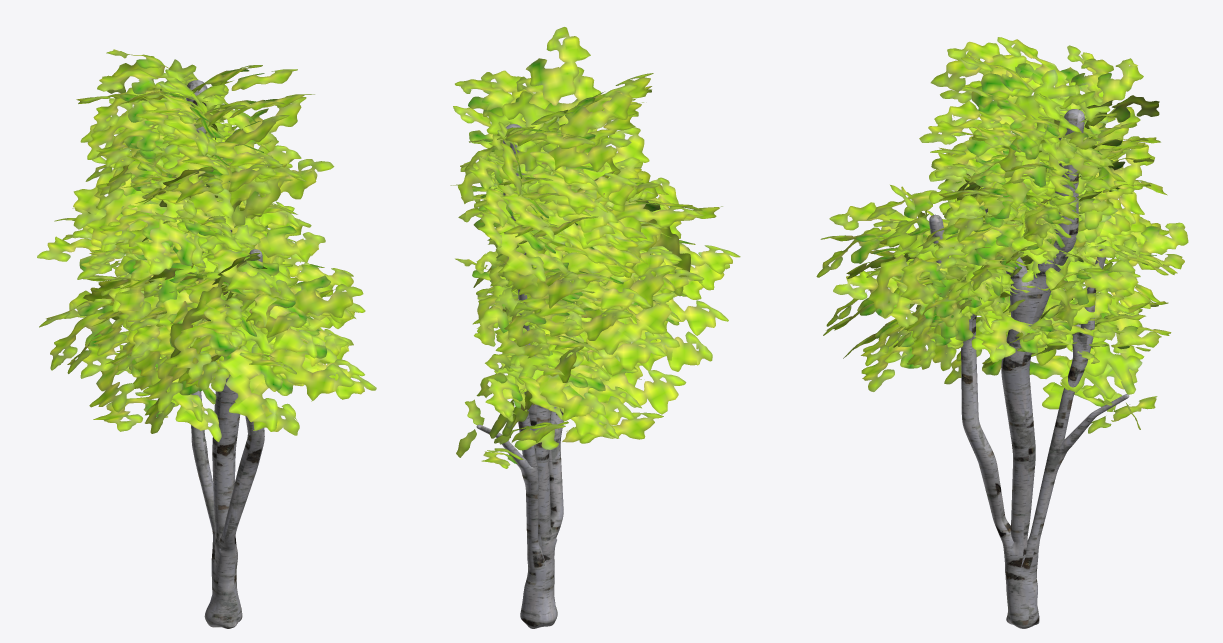
Rendered from Birch wood_4.fbx.
The picture shows the model from 3 angles, left to right: view 1: azimuth 30°, elevation 25°; view 2: azimuth 150°, elevation 25°; view 3: azimuth 270°, elevation 25°; orthographic projection. The views are drawn at different scales.
Visible parts, largest first — view 1: Cube.005; view 2: Cube.005; view 3: Cube.005.
Part boxes in pixels (x1,y1,x2,y2): Cube.005: [37, 49, 376, 628]; Cube.005: [450, 27, 740, 628]; Cube.005: [816, 37, 1188, 628].
Bounding box in the file's own units: 1208 × 2467 × 1600.
